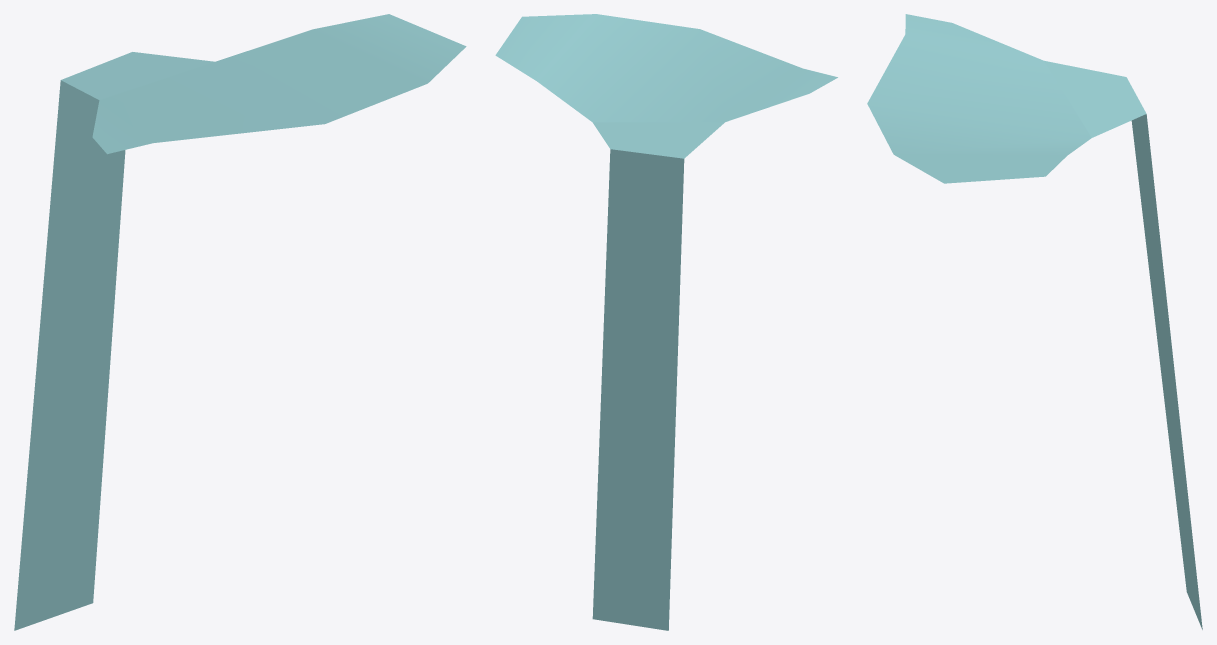
The model's file is BgMD_water02_01.fbx.
The picture shows the model from 3 angles, left to right: view 1: azimuth 30°, elevation 25°; view 2: azimuth 150°, elevation 25°; view 3: azimuth 270°, elevation 25°; orthographic projection. The views are drawn at different scales.
Parts seen in each view (by area): view 1: BgMD_water02_01; view 2: BgMD_water02_01; view 3: BgMD_water02_01.
Boxes of the visible parts, x1,y1,x2,y2 form: BgMD_water02_01: (14,14,466,630); BgMD_water02_01: (495,14,837,630); BgMD_water02_01: (867,14,1202,629).
Bounding box in the file's own units: 4662 × 7076 × 3908.
